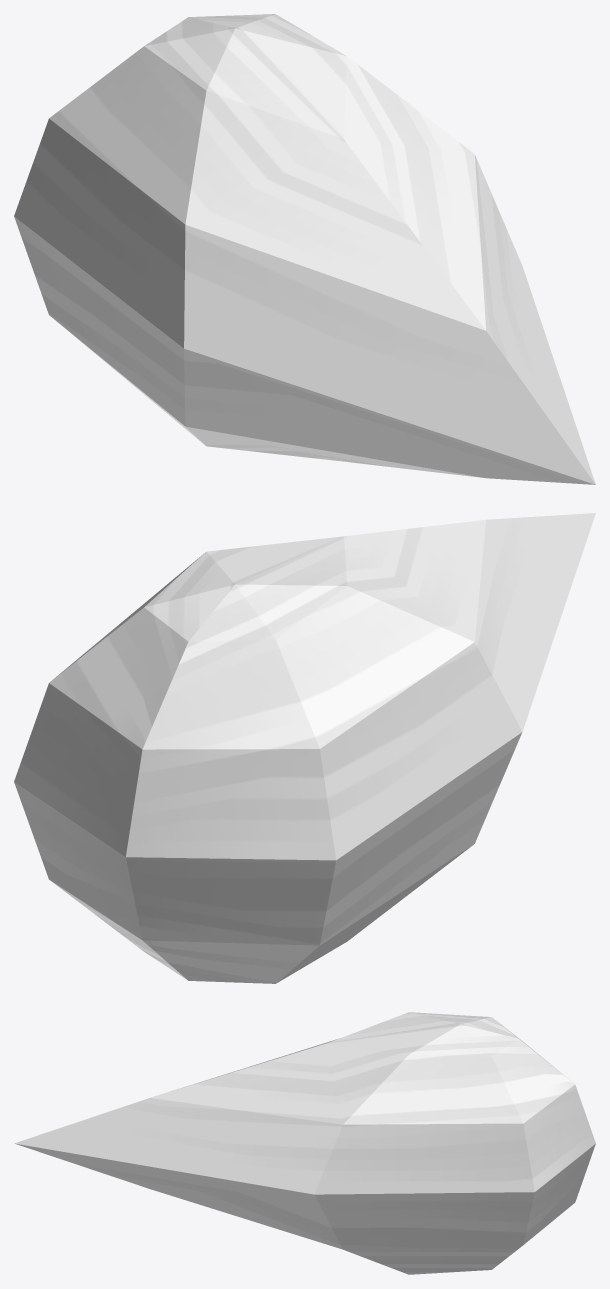
Rendered from ExhaustShape.fbx.
3 renders of one model, top to bottom at view 1: azimuth 30°, elevation 25°; view 2: azimuth 150°, elevation 25°; view 3: azimuth 270°, elevation 25°, orthographic. The views are drawn at different scales.
Parts seen in each view (by area): view 1: Exhaust; view 2: Exhaust; view 3: Exhaust.
Boxes of the visible parts, left/top/right/bottom form: Exhaust: left=14, top=14, right=595, bottom=484; Exhaust: left=14, top=513, right=595, bottom=983; Exhaust: left=14, top=1012, right=595, bottom=1274.
Size of the model in its own units: 49.23 by 53.51 by 118.
